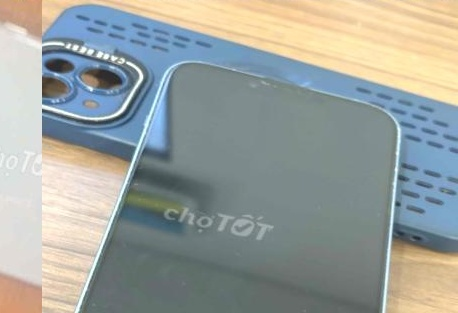scratch: (208, 54, 345, 115), (280, 298, 343, 313)
